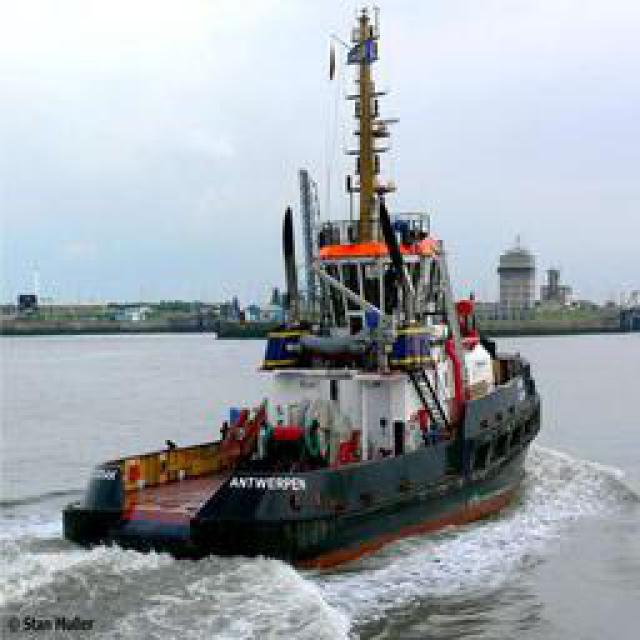Ship: (67, 69, 537, 564)
